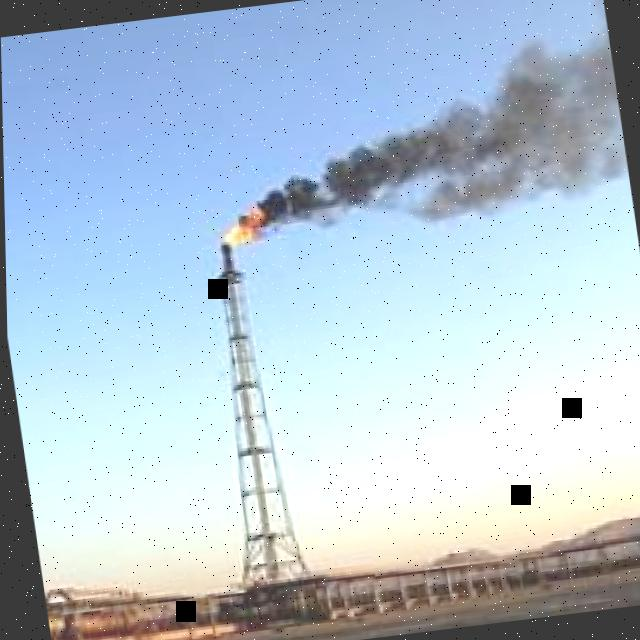fire: (221, 209, 265, 246)
smoke: (237, 34, 627, 234)
